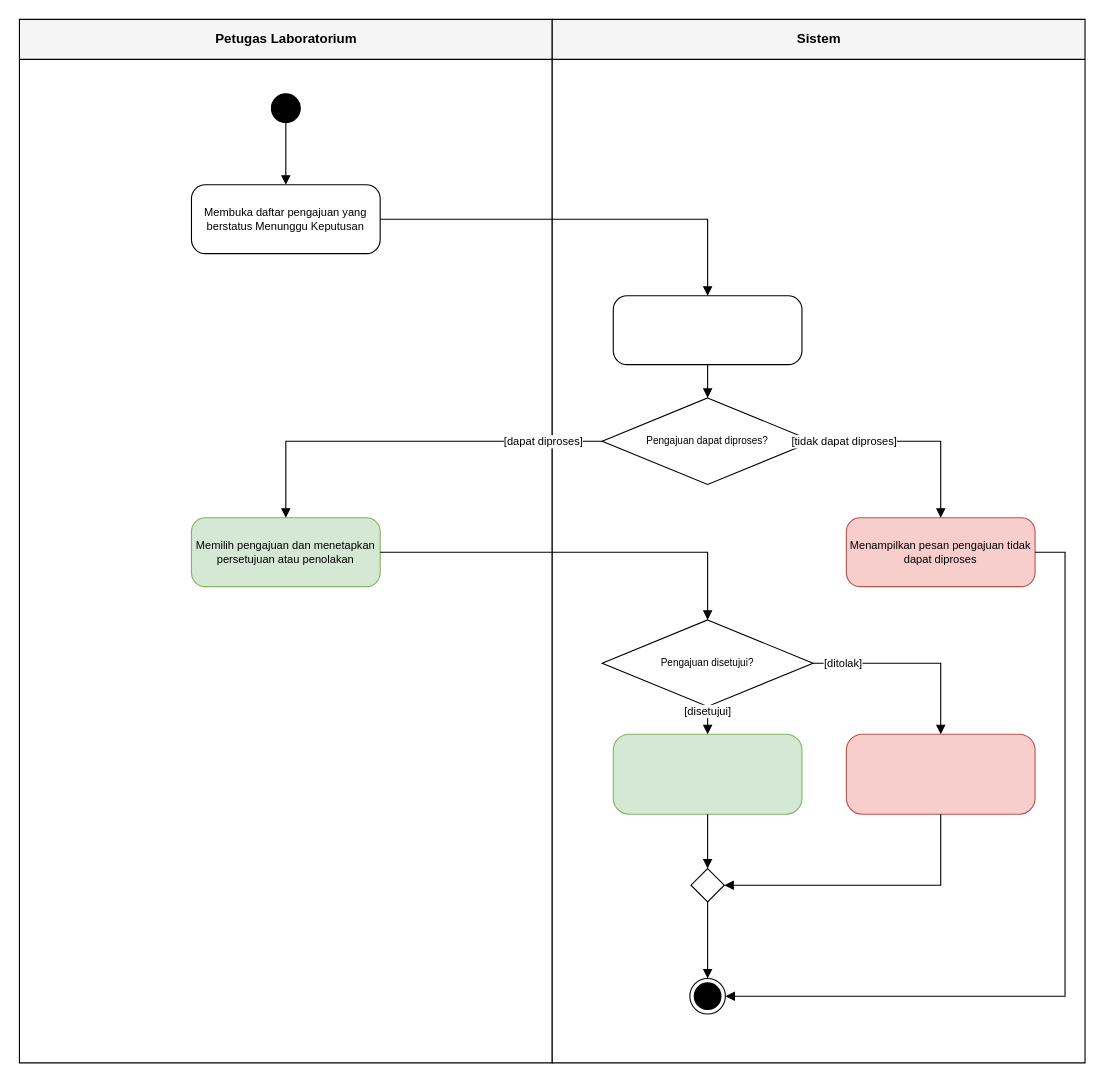
The diagram is 1104 pixels wide and 1082 high, and some of its shapes have lost their labels. Here are the shapes that lost their labels. From the top down, the centre of each, then its label:
At point 707,330: "Menampilkan daftar pengajuan yang berstatus Menunggu Keputusan".
At point 707,773: "Mengubah status pengajuan menjadi Disetujui dan menampilkan konfirmasi".
At point 940,773: "Mengubah status pengajuan menjadi Ditolak dan menampilkan konfirmasi penolakan".
